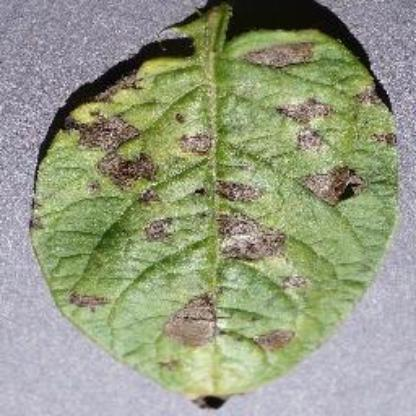Early-Blight: (30, 9, 404, 410)
